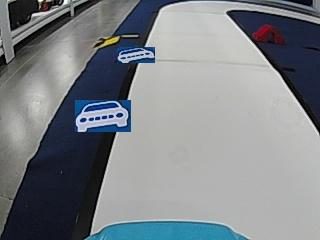bridge: (254, 23, 283, 42)
